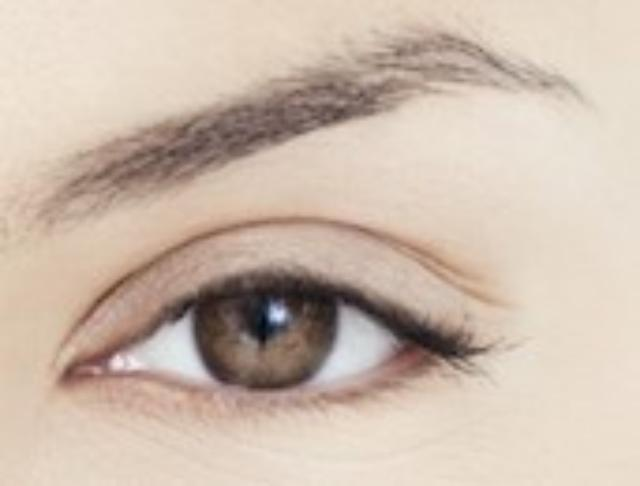eye: (189, 278, 341, 392)
